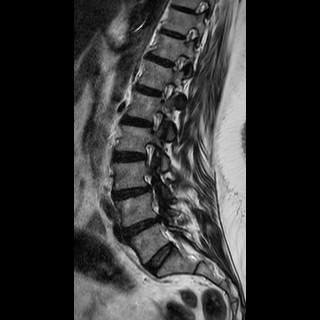LFS0: (137, 133, 162, 172), (145, 102, 168, 134)
